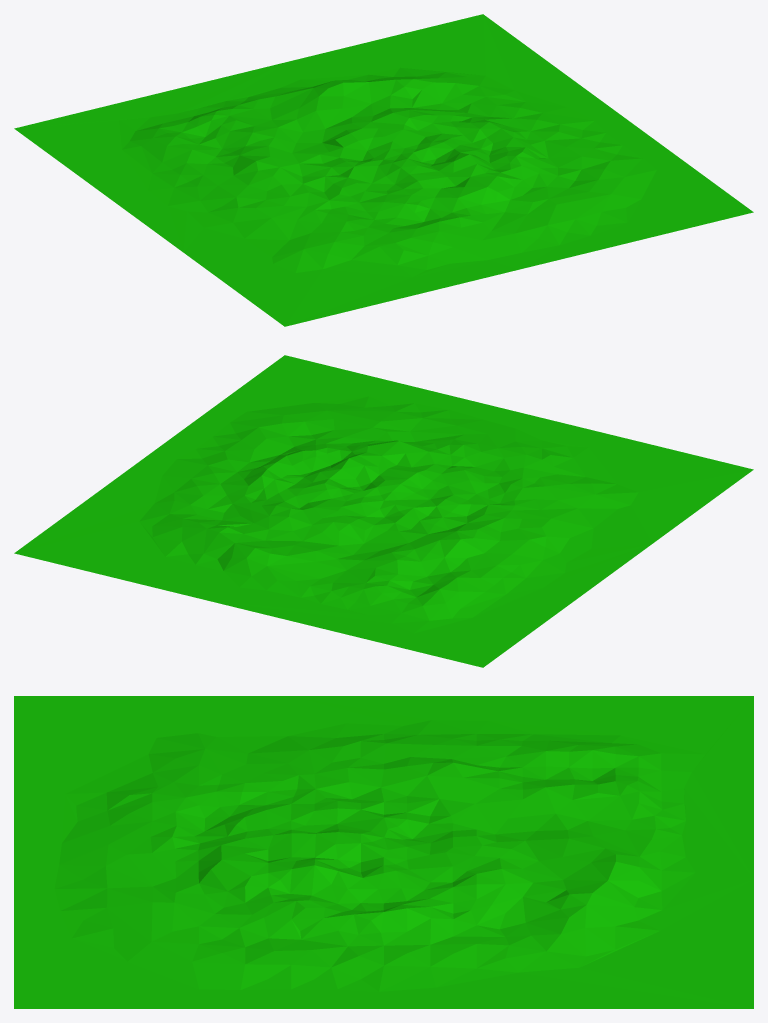
Rendered from Terrain#2.fbx.
3 views of the same model, one above another, from view 1: azimuth 30°, elevation 25°; view 2: azimuth 150°, elevation 25°; view 3: azimuth 270°, elevation 25° (orthographic). The views are drawn at different scales.
Parts seen in each view (by area): view 1: Terrain#3; view 2: Terrain#3; view 3: Terrain#3.
Part boxes in pixels (x1=…): Terrain#3: x1=14, y1=14, x2=753, y2=326; Terrain#3: x1=14, y1=355, x2=753, y2=667; Terrain#3: x1=14, y1=696, x2=753, y2=1008.
Size of the model in its own units: 11600 by 472 by 11600.
